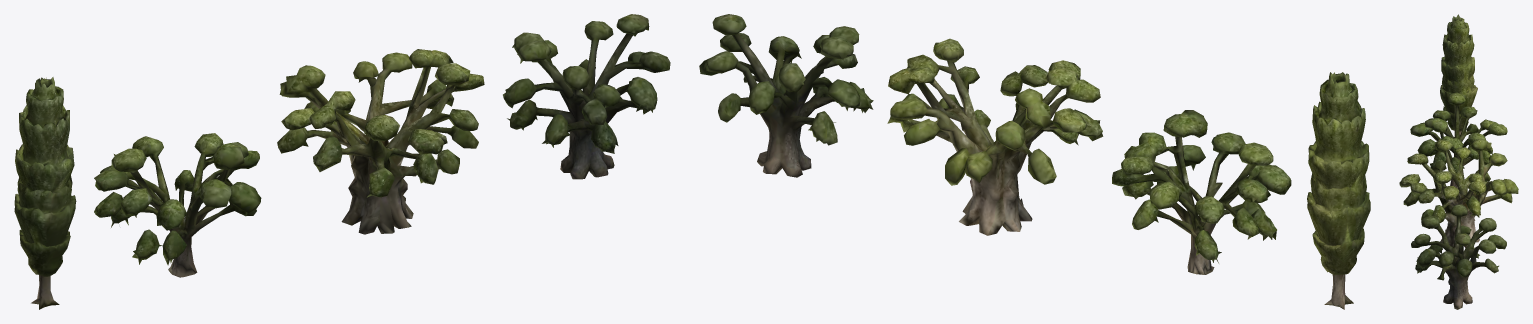
File: trees_broadleaf.glb
3 views of the same model, side by side, from view 1: azimuth 30°, elevation 25°; view 2: azimuth 150°, elevation 25°; view 3: azimuth 270°, elevation 25° (orthographic). The views are drawn at different scales.
Visible parts, largest first — view 1: plane, oak, walnut, poplar; view 2: plane, walnut, oak, poplar; view 3: plane, oak, walnut, poplar.
Part boxes in pixels (x1,y1,x2,y2): plane: (277,49,484,234); oak: (503,14,670,179); walnut: (94,133,261,277); poplar: (14,77,76,309); plane: (887,38,1103,235); walnut: (1112,110,1291,274); oak: (699,14,873,177); poplar: (1307,72,1370,309); plane: (1399,138,1518,247); oak: (1411,204,1506,309); walnut: (1410,92,1507,188); poplar: (1440,14,1477,134).
Bounding box in the file's own units: 1.13 × 0.3797 × 0.3102.
1 material, 1 textured.
